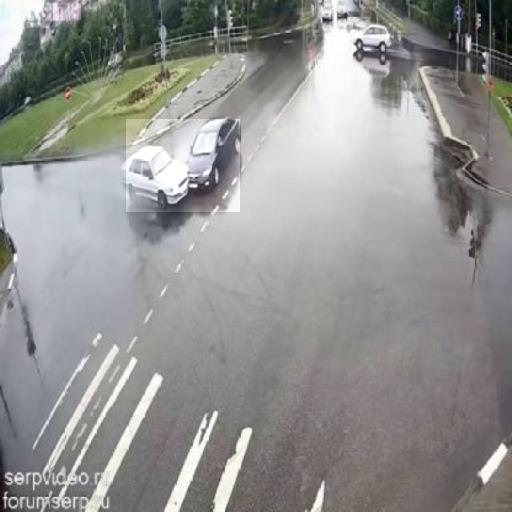小汽车: (352, 23, 394, 52)
小汽车撞小汽车: (126, 119, 240, 212)
